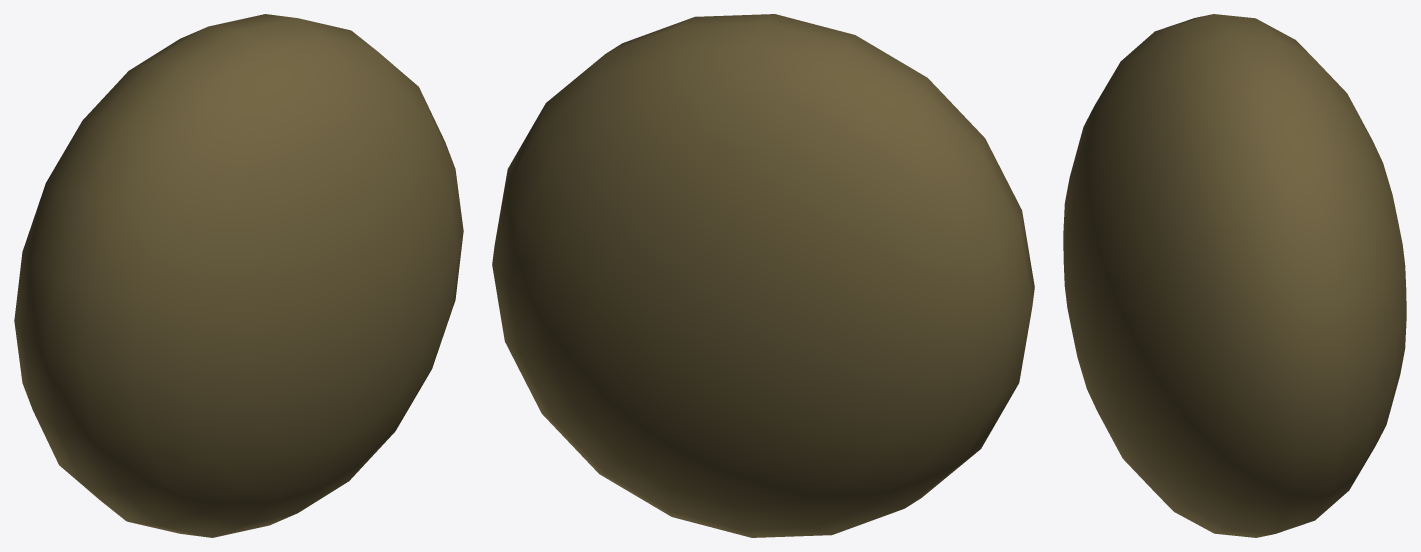
Rendered from wipelamp.glb.
The picture shows the model from 3 angles, left to right: view 1: azimuth 30°, elevation 25°; view 2: azimuth 150°, elevation 25°; view 3: azimuth 270°, elevation 25°; orthographic projection. The views are drawn at different scales.
Visible parts, largest first — view 1: log_wipe_dome; view 2: log_wipe_dome; view 3: log_wipe_dome.
Boxes of the visible parts, left/top/right/bottom form: log_wipe_dome: left=14, top=14, right=463, bottom=537; log_wipe_dome: left=492, top=14, right=1034, bottom=537; log_wipe_dome: left=1063, top=14, right=1406, bottom=537.
Bounding box in the file's own units: 0.0172 × 0.0176 × 0.0114.
